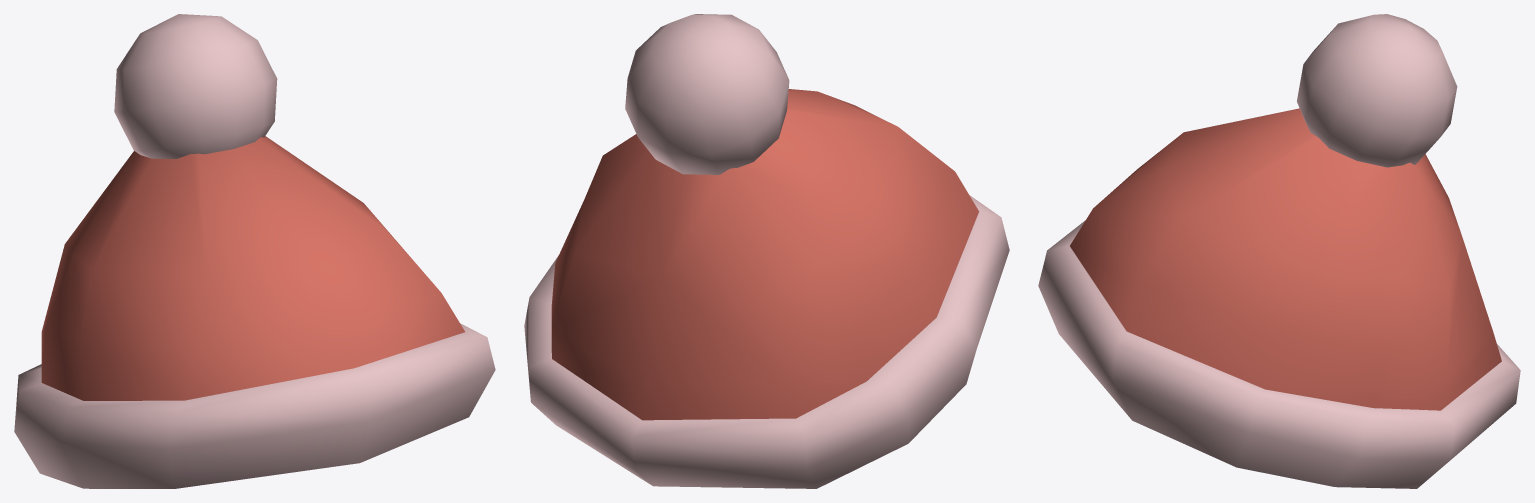
The model's file is hat_winter.fbx.
3 views of the same model, side by side, from view 1: azimuth 30°, elevation 25°; view 2: azimuth 150°, elevation 25°; view 3: azimuth 270°, elevation 25° (orthographic). The views are drawn at different scales.
Visible parts, largest first — view 1: w_Hat02; view 2: w_Hat02; view 3: w_Hat02.
Part boxes in pixels (x1,y1,x2,y2): w_Hat02: (14, 14, 495, 488); w_Hat02: (524, 14, 1009, 488); w_Hat02: (1038, 14, 1520, 488).
Size of the model in its own units: 0.8825 by 0.889 by 0.945.
